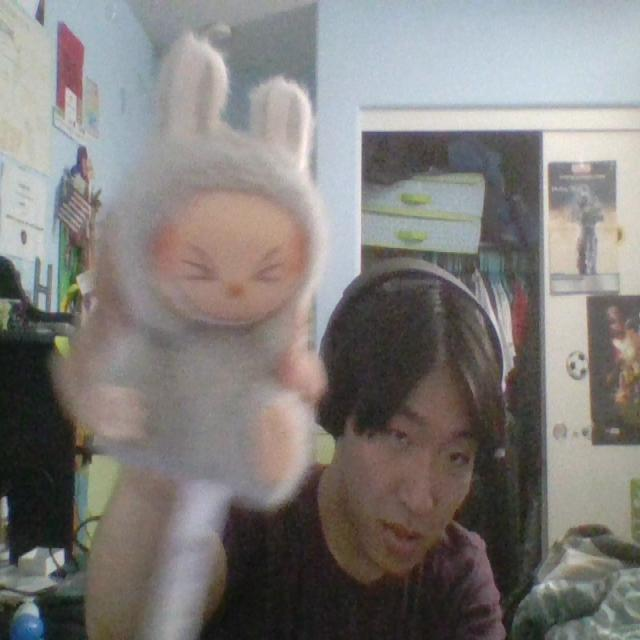labubu: (56, 35, 325, 539)
